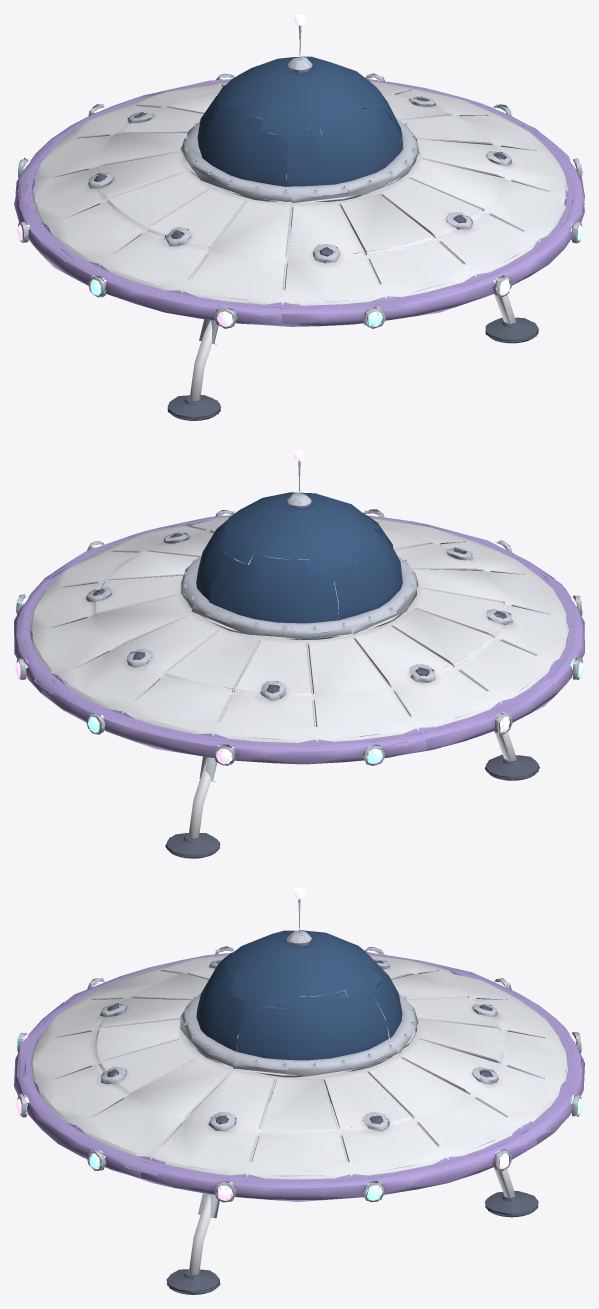
Rendered from astronauta.glb.
3 views of the same model, one above another, from view 1: azimuth 30°, elevation 25°; view 2: azimuth 150°, elevation 25°; view 3: azimuth 270°, elevation 25° (orthographic).
Visible parts, largest first — view 1: ufo_antenna_glow; view 2: ufo_antenna_glow; view 3: ufo_antenna_glow.
Part boxes in pixels (box(x1,y1,x2,y2)): ufo_antenna_glow: box(14, 14, 584, 420); ufo_antenna_glow: box(14, 449, 584, 858); ufo_antenna_glow: box(14, 887, 584, 1294).
Bounding box in the file's own units: 10.09 × 6.23 × 10.09.
14 materials, 1 textured.
